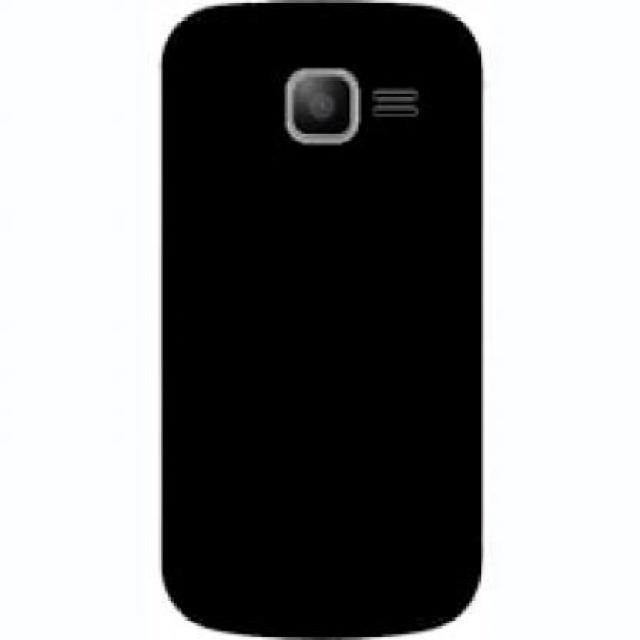phone: (159, 3, 483, 637)
